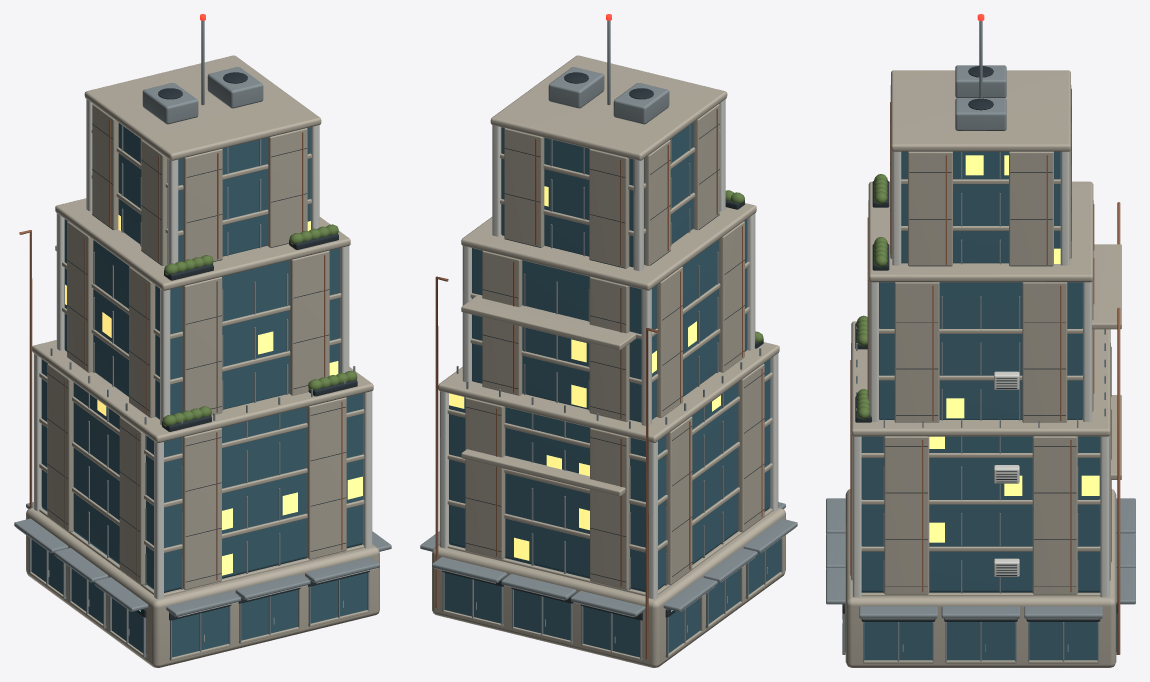
File: tower-0.glb
The picture shows the model from 3 angles, left to right: view 1: azimuth 30°, elevation 25°; view 2: azimuth 150°, elevation 25°; view 3: azimuth 270°, elevation 25°; orthographic projection. The views are drawn at different scales.
Visible parts, largest first — view 1: NC mineral concrete, NC sapphire glazing, NC brushed titanium, NC ceramic ivory, NC oxidized copper, NC graphite, NC foliage, NC amber; view 2: NC mineral concrete, NC sapphire glazing, NC brushed titanium, NC ceramic ivory, NC oxidized copper, NC graphite, NC amber; view 3: NC mineral concrete, NC sapphire glazing, NC brushed titanium, NC ceramic ivory, NC oxidized copper, NC graphite, NC amber, NC foliage.
Part boxes in pixels (x1,y1,x2,y2): NC mineral concrete: (26, 55, 379, 667); NC sapphire glazing: (31, 123, 367, 657); NC brushed titanium: (14, 20, 391, 659); NC ceramic ivory: (17, 99, 377, 641); NC oxidized copper: (19, 120, 342, 580); NC graphite: (47, 72, 369, 620); NC foliage: (162, 224, 357, 426); NC amber: (65, 215, 362, 575); NC mineral concrete: (432, 55, 785, 667); NC sapphire glazing: (444, 123, 780, 657); NC brushed titanium: (420, 20, 797, 659); NC ceramic ivory: (434, 99, 794, 643); NC oxidized copper: (435, 108, 762, 659); NC graphite: (442, 72, 764, 620); NC amber: (449, 186, 720, 560); NC mineral concrete: (842, 70, 1121, 667); NC sapphire glazing: (845, 151, 1116, 660); NC brushed titanium: (826, 21, 1135, 662); NC ceramic ivory: (842, 151, 1109, 651); NC oxidized copper: (850, 88, 1120, 654); NC graphite: (842, 66, 1117, 621); NC amber: (929, 155, 1099, 542); NC foliage: (856, 174, 887, 419).
Size of the model in its own units: 24.05 by 51.2 by 24.05.
